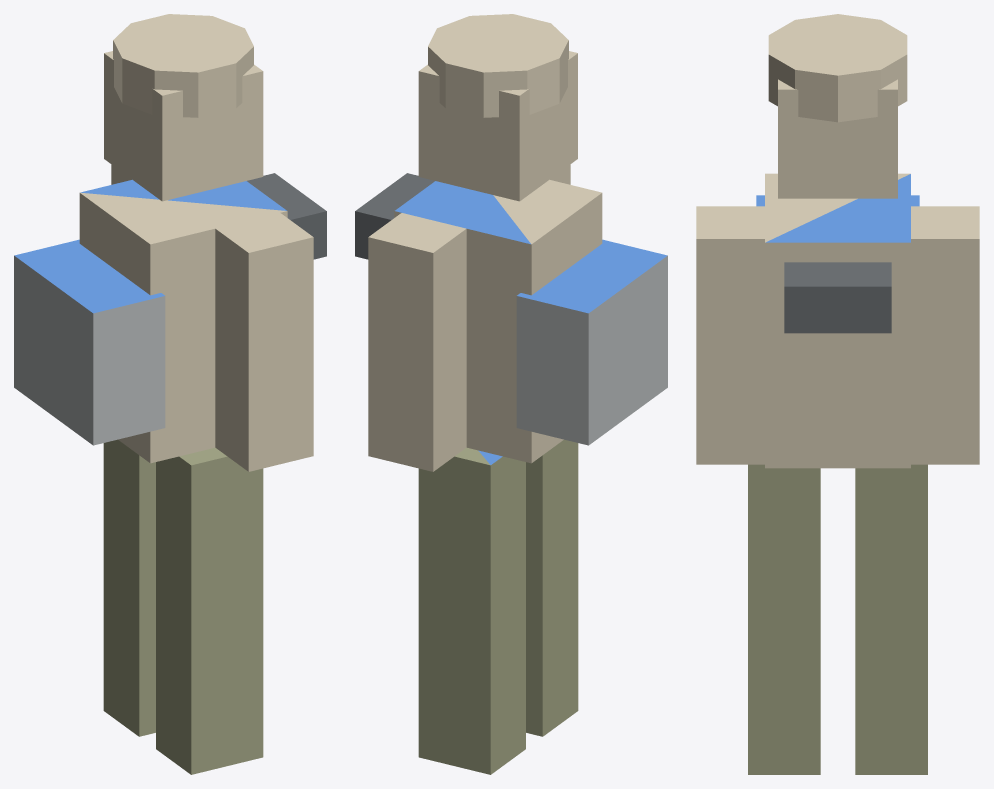
Rendered from meridian_scout.glb.
3 views of the same model, side by side, from view 1: azimuth 30°, elevation 25°; view 2: azimuth 150°, elevation 25°; view 3: azimuth 270°, elevation 25° (orthographic). The views are drawn at different scales.
Parts seen in each view (by area): view 1: torso, leg_r, head, arm_r, leg_l; view 2: torso, leg_l, head, arm_l, leg_r; view 3: torso, head, leg_l, leg_r, arm_l, arm_r.
Part boxes in pixels (box(x1,y1,x2,y2)): torso: box(14, 173, 326, 463); leg_r: box(156, 447, 263, 774); head: box(104, 14, 263, 201); arm_r: box(215, 213, 313, 471); leg_l: box(103, 439, 155, 736); torso: box(355, 173, 667, 463); leg_l: box(418, 447, 525, 774); head: box(418, 14, 577, 201); arm_l: box(368, 213, 466, 471); leg_r: box(526, 439, 578, 736); torso: box(756, 173, 919, 468); head: box(768, 14, 907, 198); leg_l: box(855, 464, 927, 774); leg_r: box(748, 464, 820, 774); arm_l: box(911, 206, 979, 464); arm_r: box(696, 206, 764, 464).
Size of the model in its own units: 0.685 by 1.83 by 0.66.
